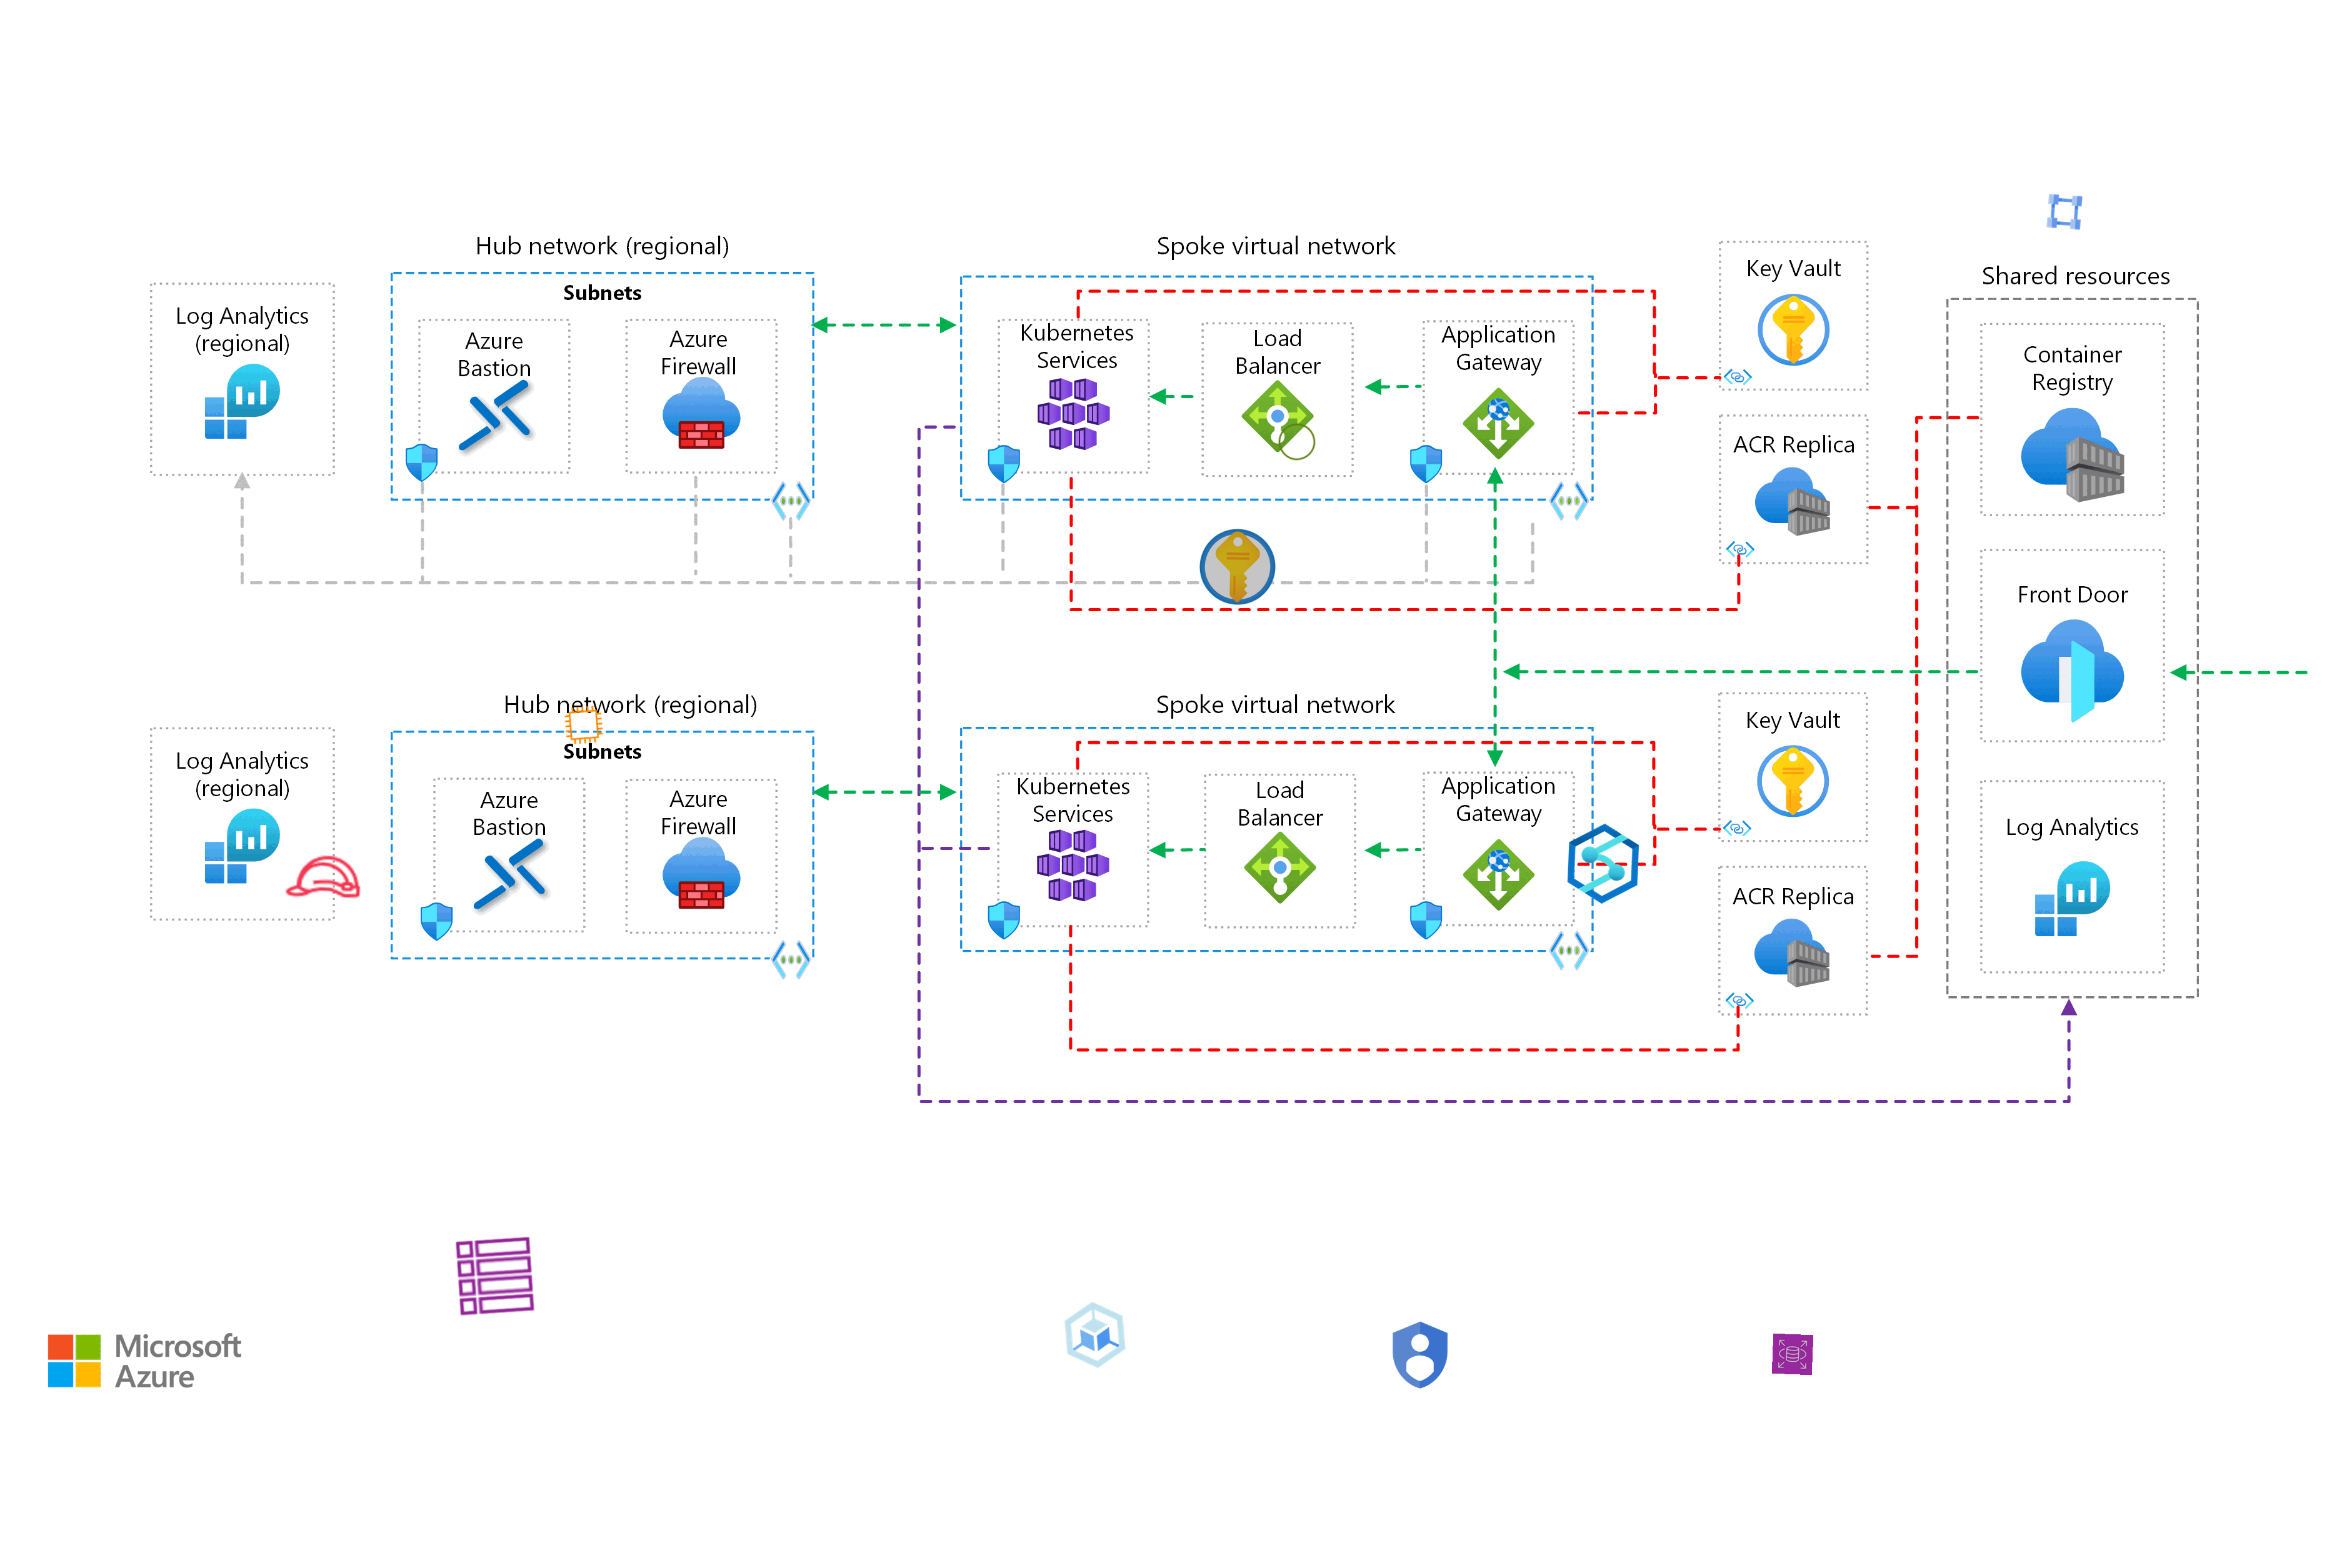aws_amazon_rds: (1771, 1333, 1813, 1375)
aws_dynamodb_table: (452, 1234, 539, 1319)
aws_ec2_instance: (562, 703, 605, 747)
aws_identity_access_management_role: (280, 835, 367, 920)
aws_simple_storage_service_object: (1276, 422, 1318, 462)
azure_key_vaults: (1197, 527, 1277, 607)
azure_synapse_analytics: (1561, 822, 1645, 905)
gcp_google_kubernetes_engine: (1052, 1291, 1139, 1379)
gcp_identity_and_access_management: (1379, 1314, 1461, 1395)
gcp_virtual_private_cloud: (2042, 191, 2086, 234)
